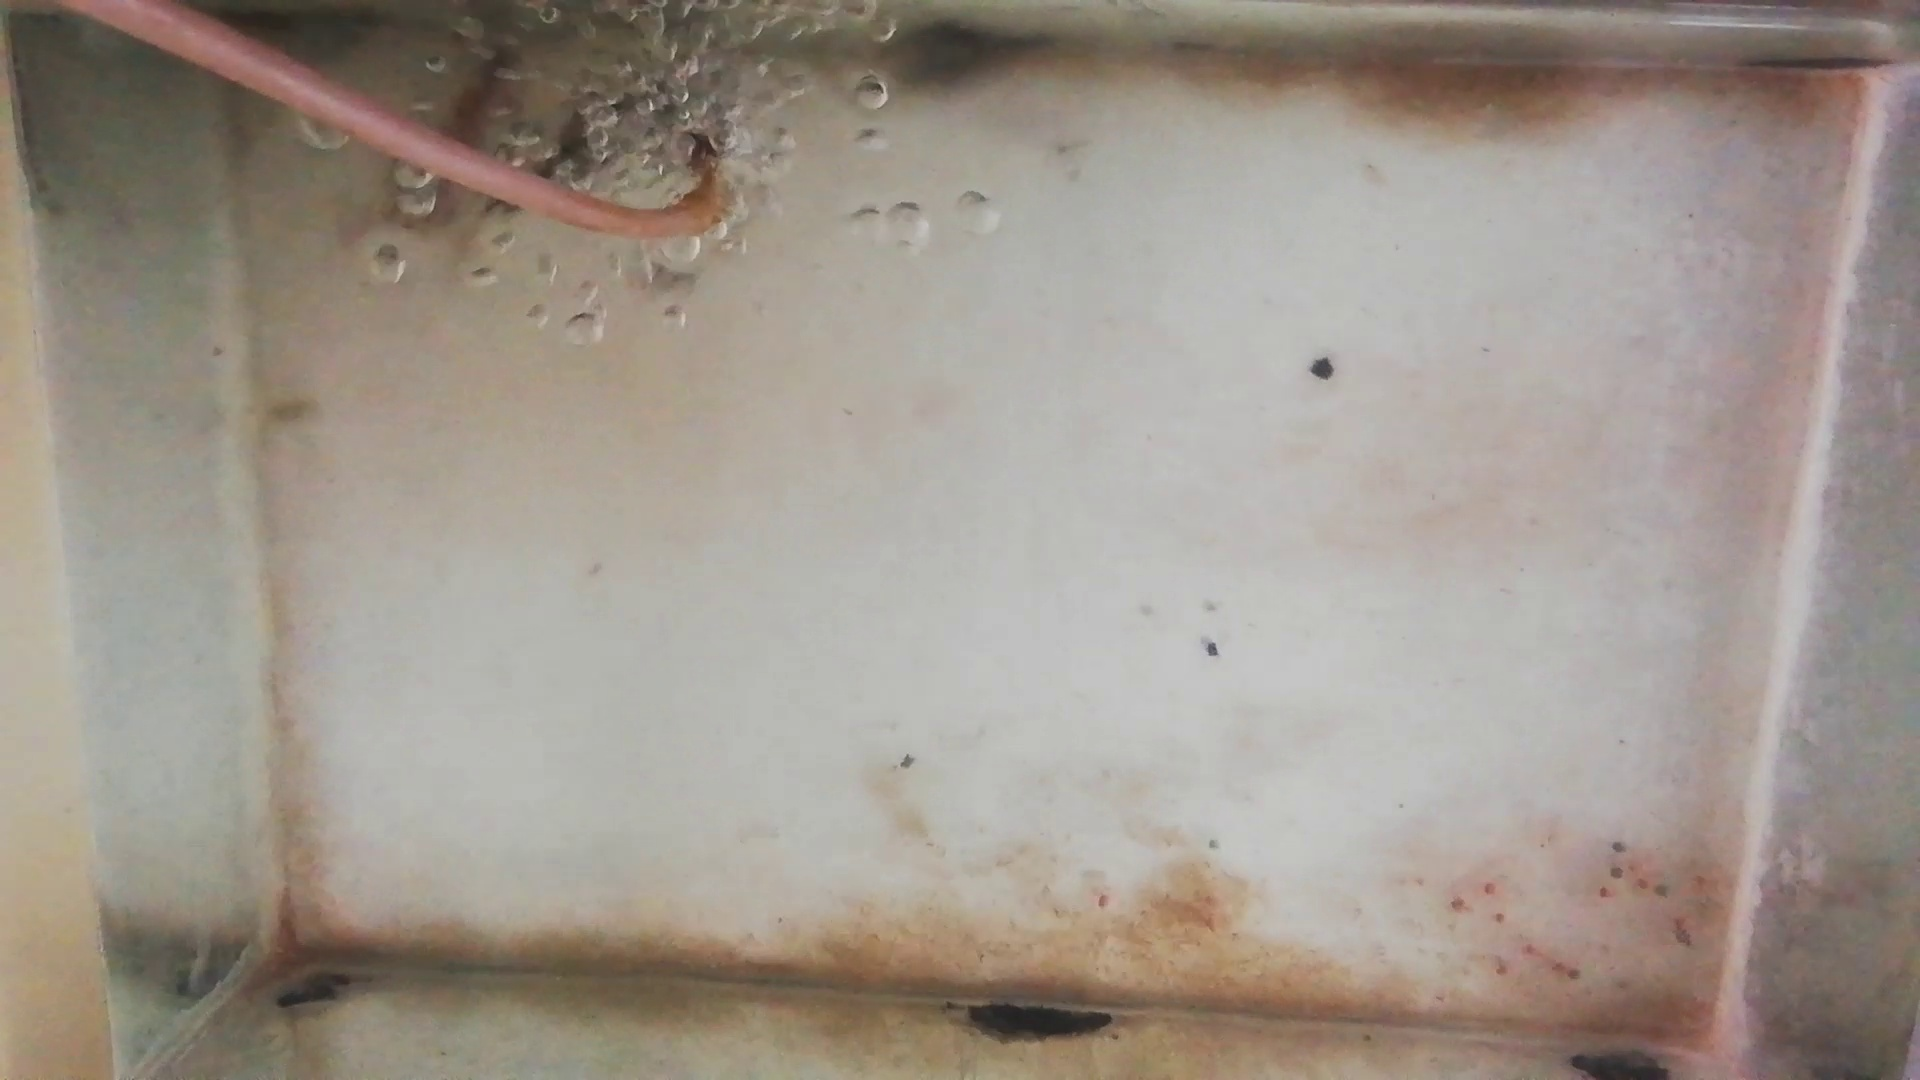fish: (404, 40, 506, 233), (517, 76, 649, 203)
